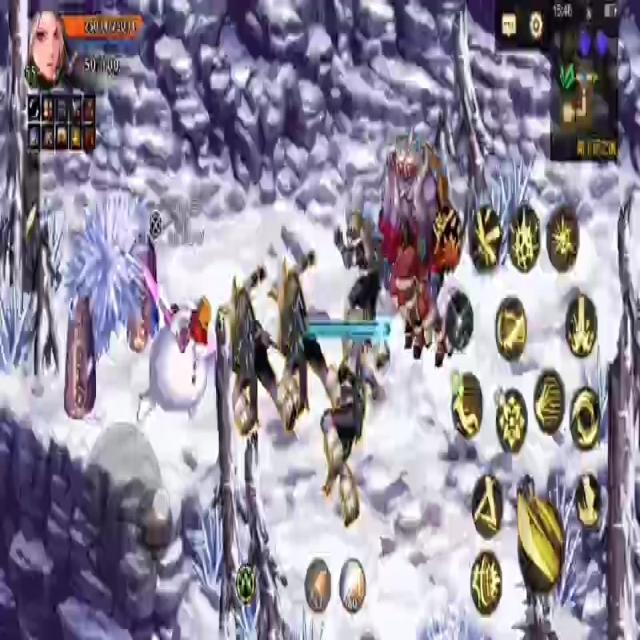player: (135, 292, 210, 428)
